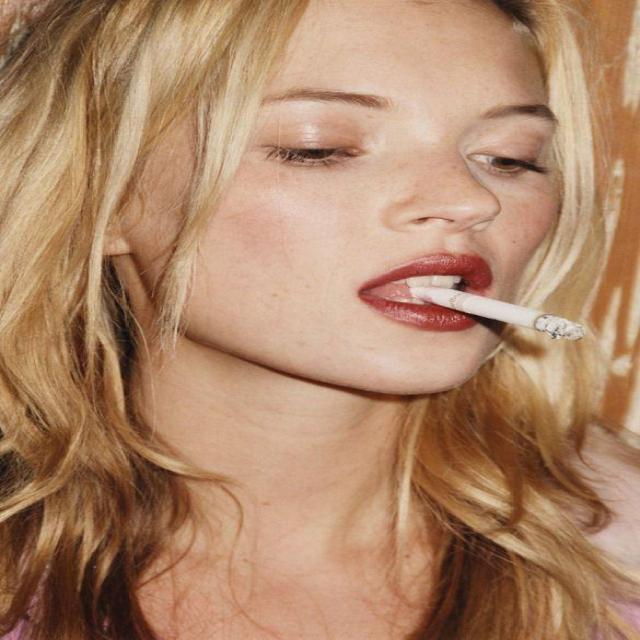cigarette: (405, 257, 592, 347)
